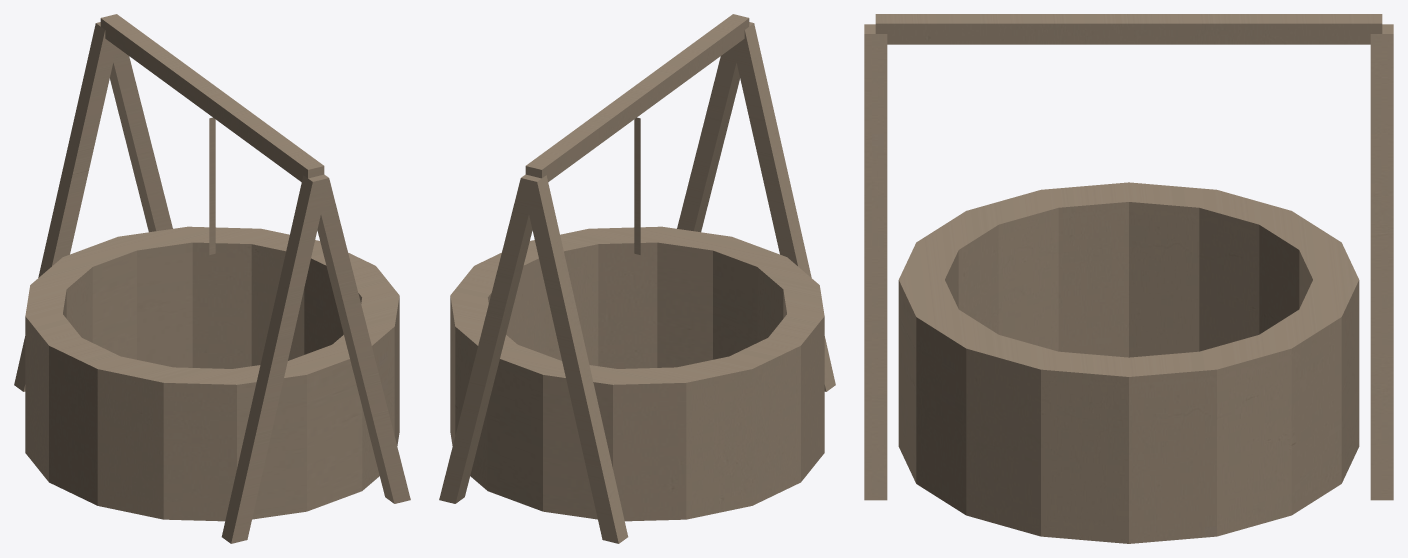
Rendered from well.glb.
The picture shows the model from 3 angles, left to right: view 1: azimuth 30°, elevation 25°; view 2: azimuth 150°, elevation 25°; view 3: azimuth 270°, elevation 25°; orthographic projection. The views are drawn at different scales.
Parts seen in each view (by area): view 1: VillageWell; view 2: VillageWell; view 3: VillageWell.
Boxes of the visible parts, <box> form: VillageWell: <box>14,14,410,543</box>; VillageWell: <box>439,14,835,543</box>; VillageWell: <box>864,14,1393,543</box>.
Bounding box in the file's own units: 2 × 2.05 × 2.3.
Materials: 1 (1 with a texture image).
